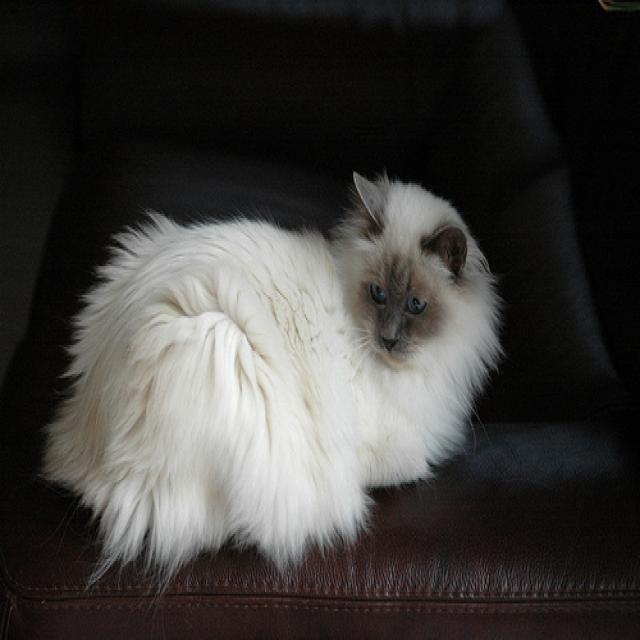Birman: (352, 170, 466, 364)
